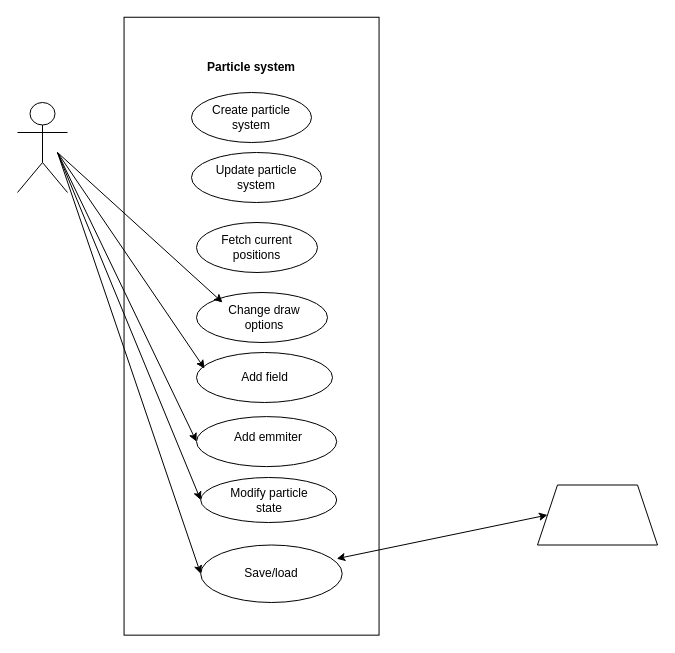
Some shapes in this 675 by 653 pixel diagram are drawn without their labels. Here are the shapes that lost their labels. From the top down, the box of each, then its label:
(16, 102, 68, 192): Actor
(536, 484, 658, 545): Library
